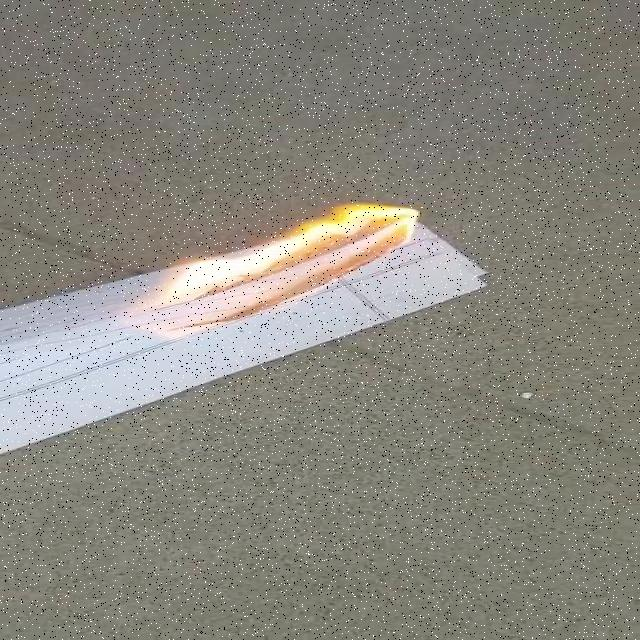fire: (155, 204, 436, 306)
